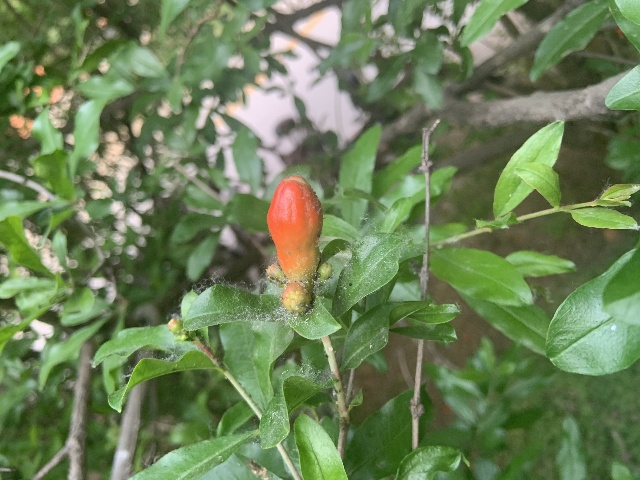bud: (266, 174, 322, 279), (281, 283, 313, 315)
